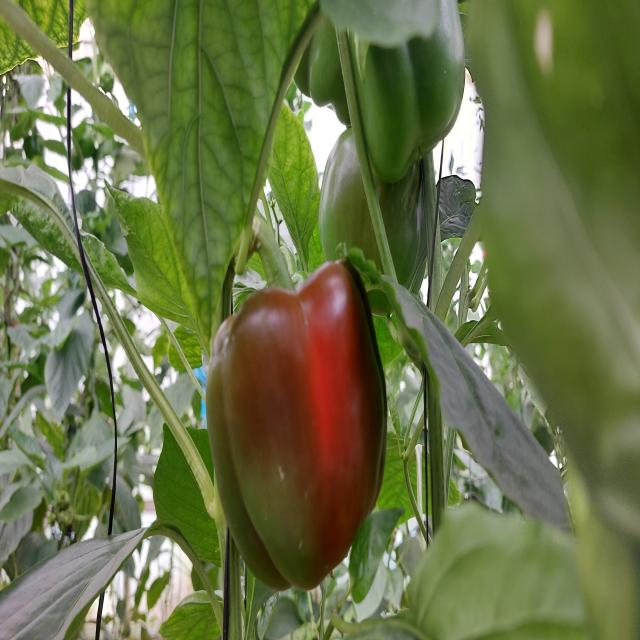BrownishRed--Can-be-Harvested: (198, 286, 404, 594)
Green--Not-ready-to-harvest: (352, 4, 470, 150)
